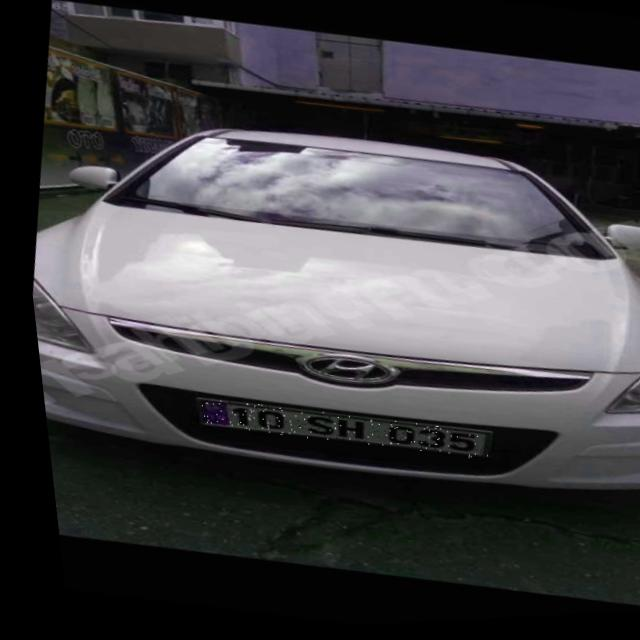license_plate: (183, 387, 481, 476)
